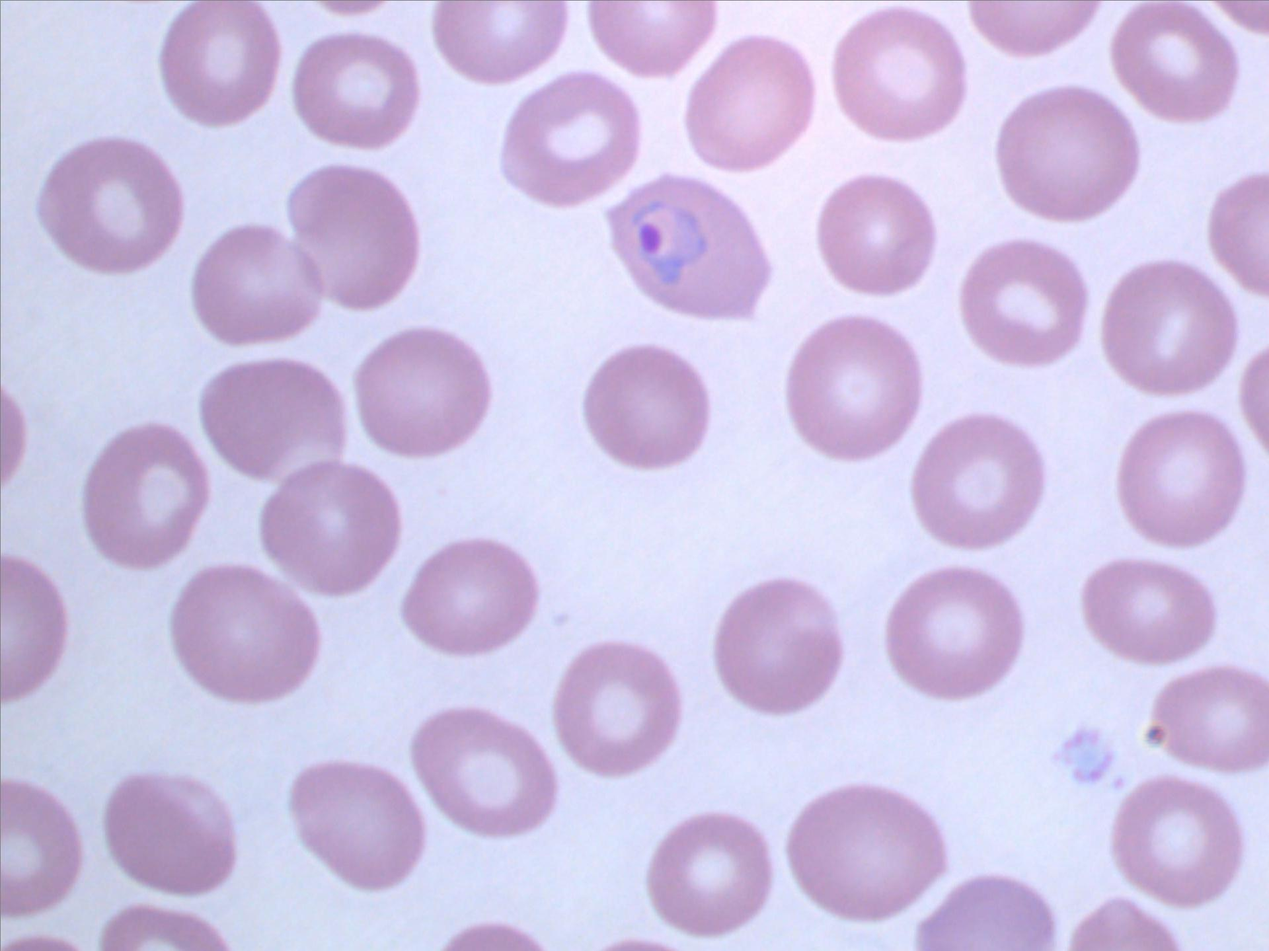Infected: (605, 172, 774, 324)
Uninfected: (788, 783, 947, 919), (783, 318, 925, 461), (172, 562, 317, 701), (995, 86, 1143, 221), (258, 460, 403, 596), (1105, 256, 1242, 396), (411, 709, 557, 839), (43, 137, 182, 273), (501, 69, 640, 205), (289, 167, 418, 313), (83, 422, 212, 568), (288, 760, 426, 893), (202, 362, 348, 486), (887, 570, 1025, 700), (356, 328, 495, 457), (909, 420, 1044, 552), (684, 37, 818, 169), (833, 10, 968, 140), (715, 579, 844, 715), (1110, 782, 1241, 909), (555, 645, 683, 774), (1115, 415, 1239, 548), (106, 774, 239, 896), (400, 537, 537, 655), (960, 241, 1089, 366), (195, 223, 325, 346), (648, 810, 773, 935), (583, 347, 708, 468), (160, 0, 277, 127), (294, 34, 421, 151), (1079, 561, 1215, 666), (819, 174, 935, 292), (0, 777, 84, 918), (1153, 668, 1269, 770), (587, 0, 721, 81), (435, 0, 565, 83), (919, 876, 1056, 951)
